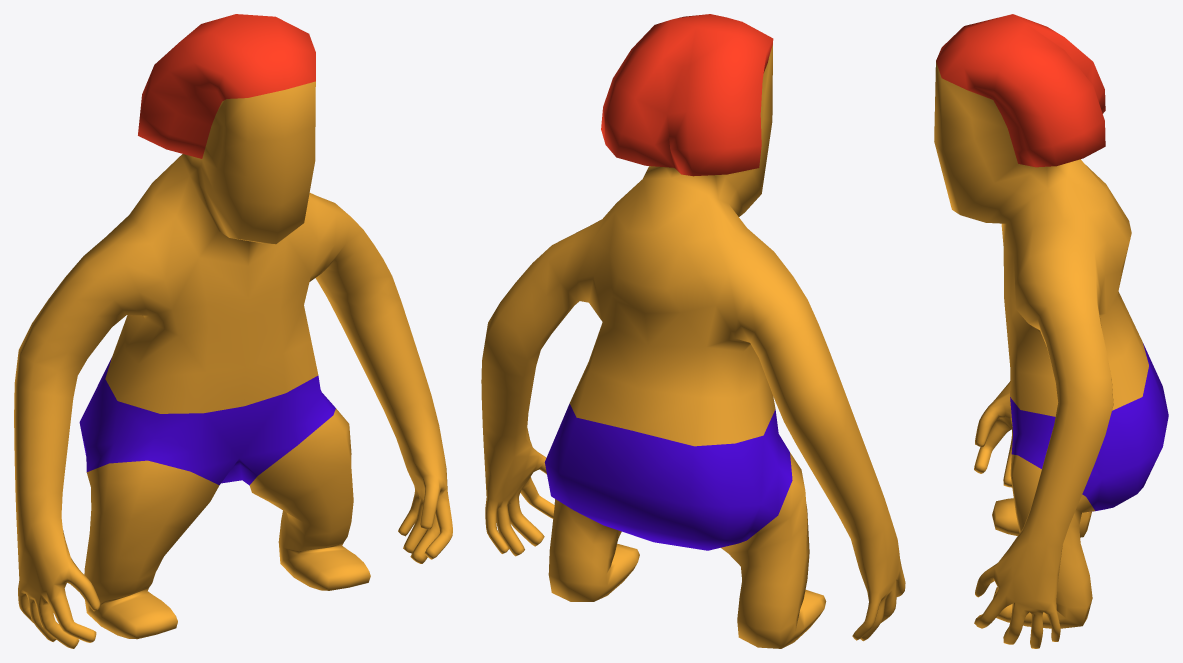
The model's file is giant.fbx.
The picture shows the model from 3 angles, left to right: view 1: azimuth 30°, elevation 25°; view 2: azimuth 150°, elevation 25°; view 3: azimuth 270°, elevation 25°; orthographic projection. The views are drawn at different scales.
Parts seen in each view (by area): view 1: Sphere.003; view 2: Sphere.003; view 3: Sphere.003.
Boxes of the visible parts, x1,y1,x2,y2 form: Sphere.003: [14, 14, 452, 648]; Sphere.003: [481, 14, 905, 648]; Sphere.003: [934, 14, 1168, 648].
Bounding box in the file's own units: 353 × 491 × 189.
1 material, 1 textured.
